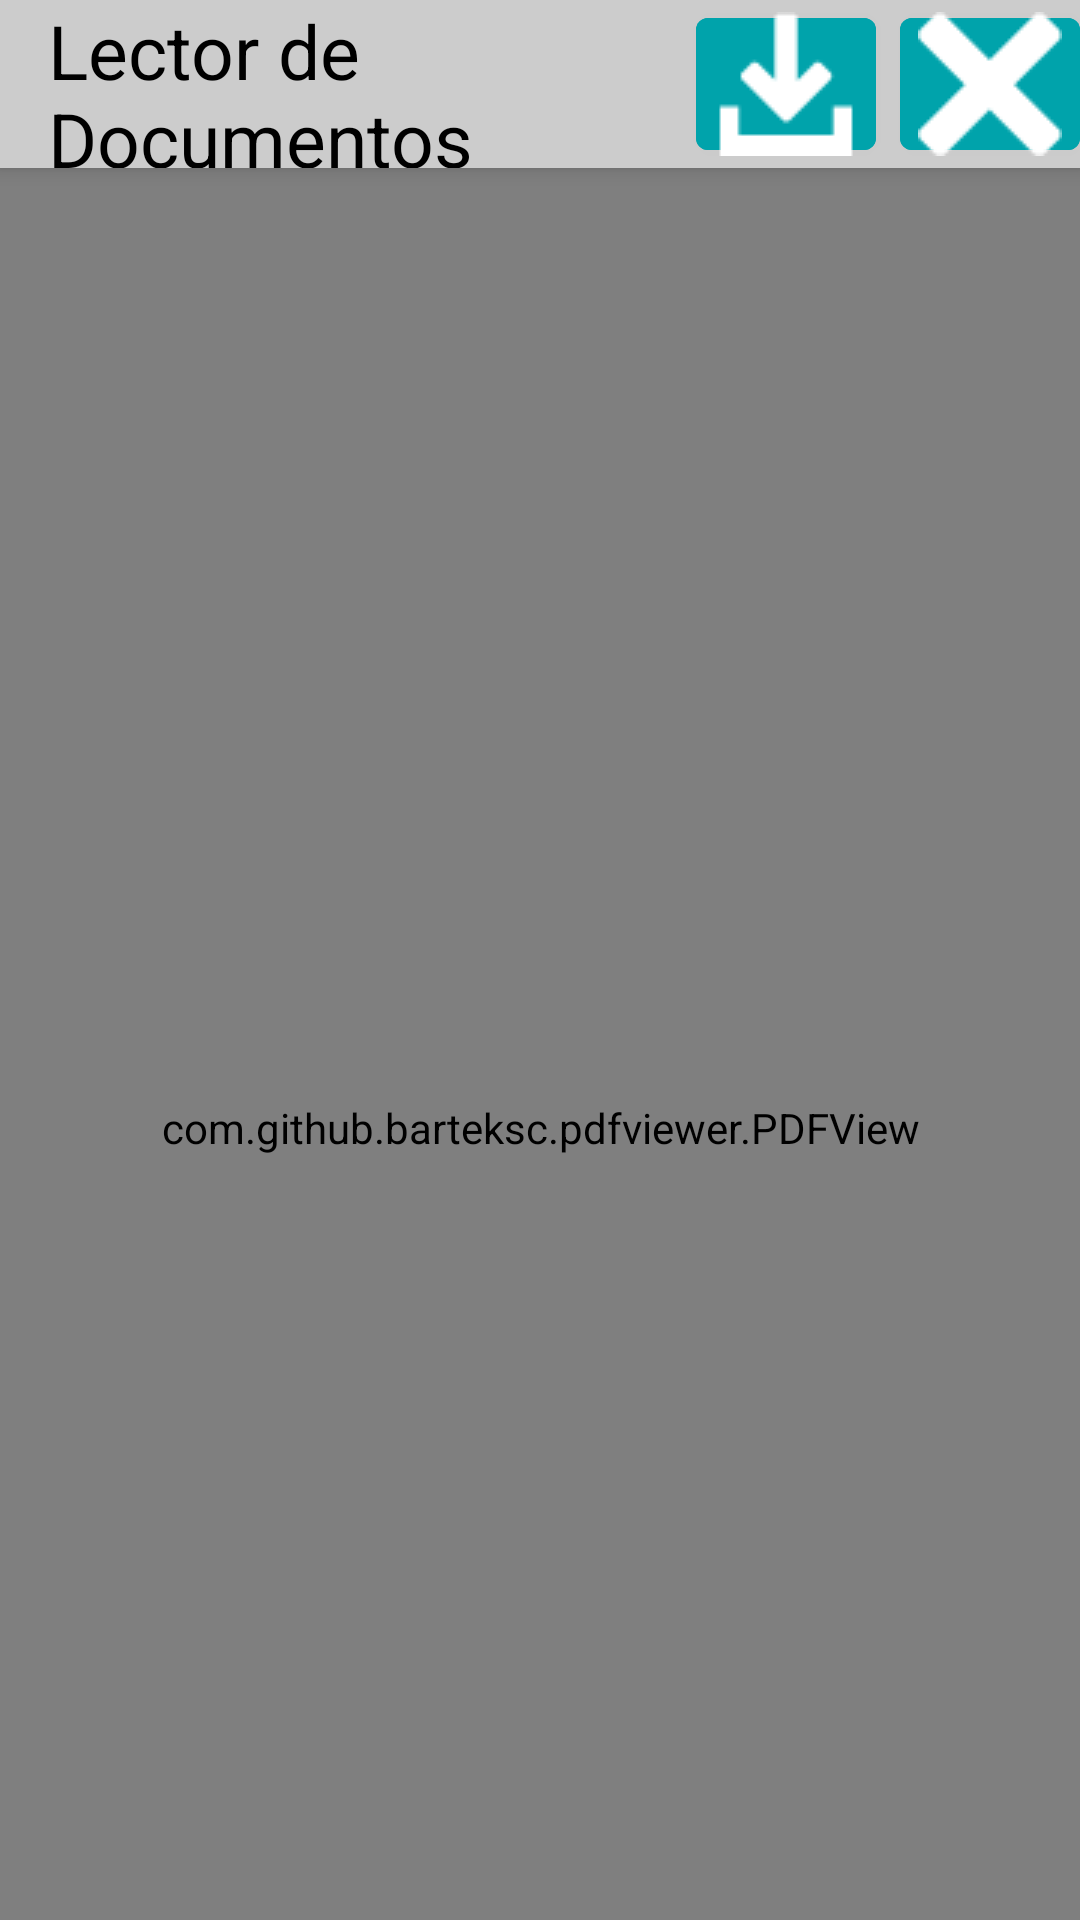

Icon click points for this 1080 x 1920 phone screenshot, format (x,y):
cerrar: (990,84)
descarga: (786,85)
